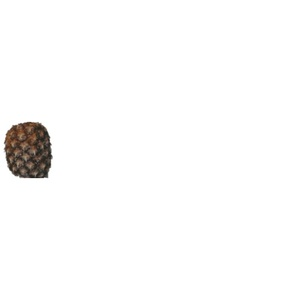abacaxi: (3, 118, 53, 183)
